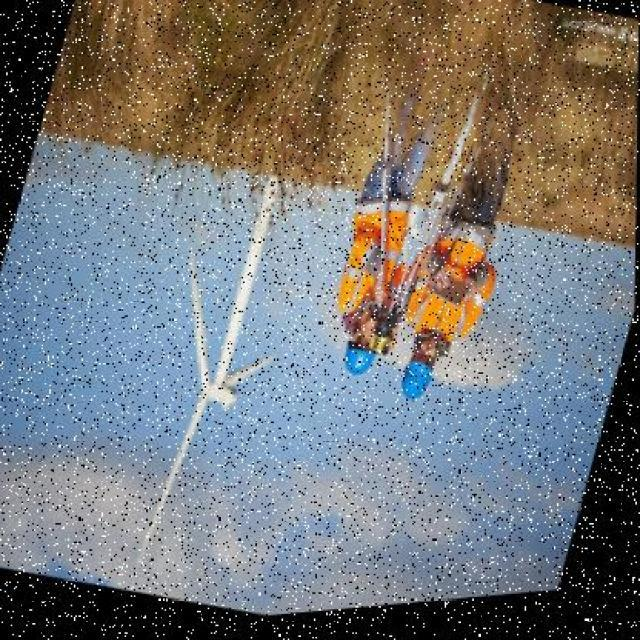helmet: (392, 360, 436, 414), (337, 337, 382, 387)
vest: (401, 214, 511, 366), (329, 185, 421, 327)
